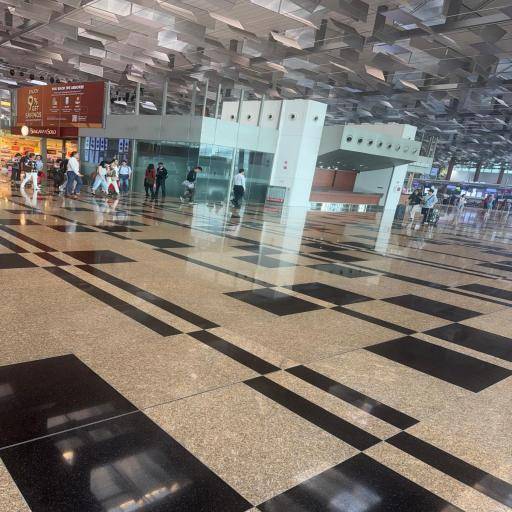person_right: (180, 166, 204, 205), (64, 151, 84, 197), (230, 169, 246, 208)
